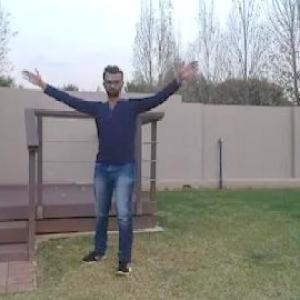takeoff: (29, 63, 197, 264)
